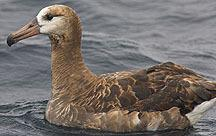001.Black_footed_Albatross: (5, 3, 216, 132)
